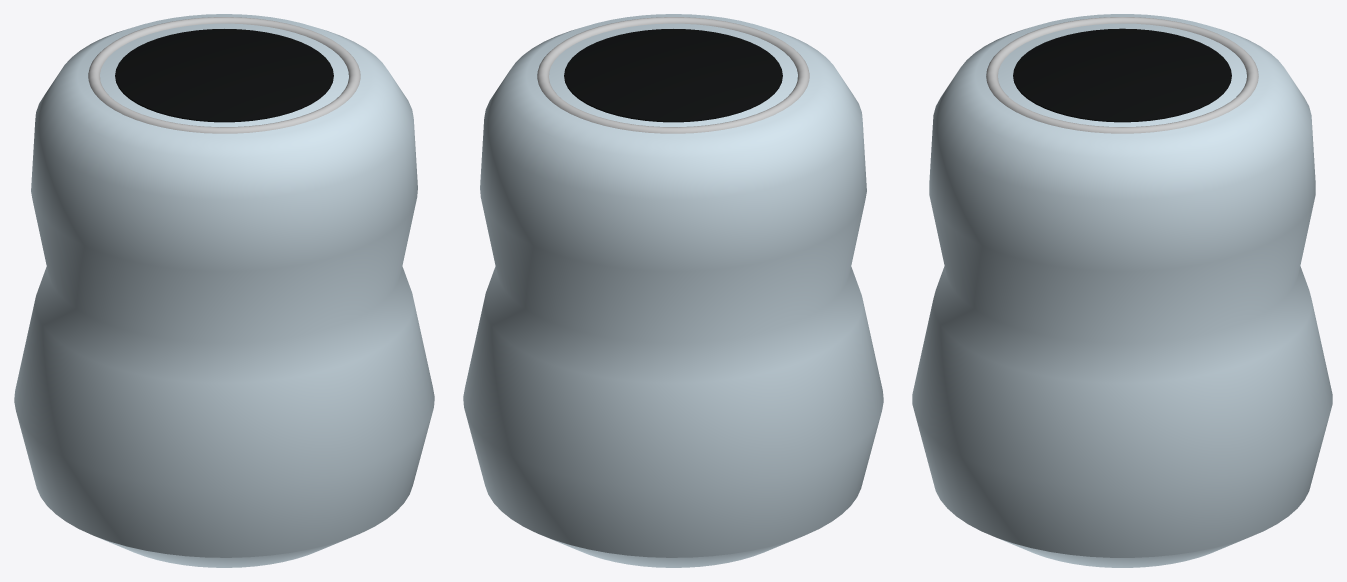
Rendered from HW300BBB.glb.
3 views of the same model, side by side, from view 1: azimuth 30°, elevation 25°; view 2: azimuth 150°, elevation 25°; view 3: azimuth 270°, elevation 25° (orthographic).
Visible parts, largest first — view 1: HW300BBB; view 2: HW300BBB; view 3: HW300BBB.
Boxes of the visible parts, x1,y1,x2,y2 form: HW300BBB: [14, 14, 434, 567]; HW300BBB: [463, 14, 883, 567]; HW300BBB: [912, 14, 1332, 567].
Size of the model in its own units: 0.32 by 0.37 by 0.32.
